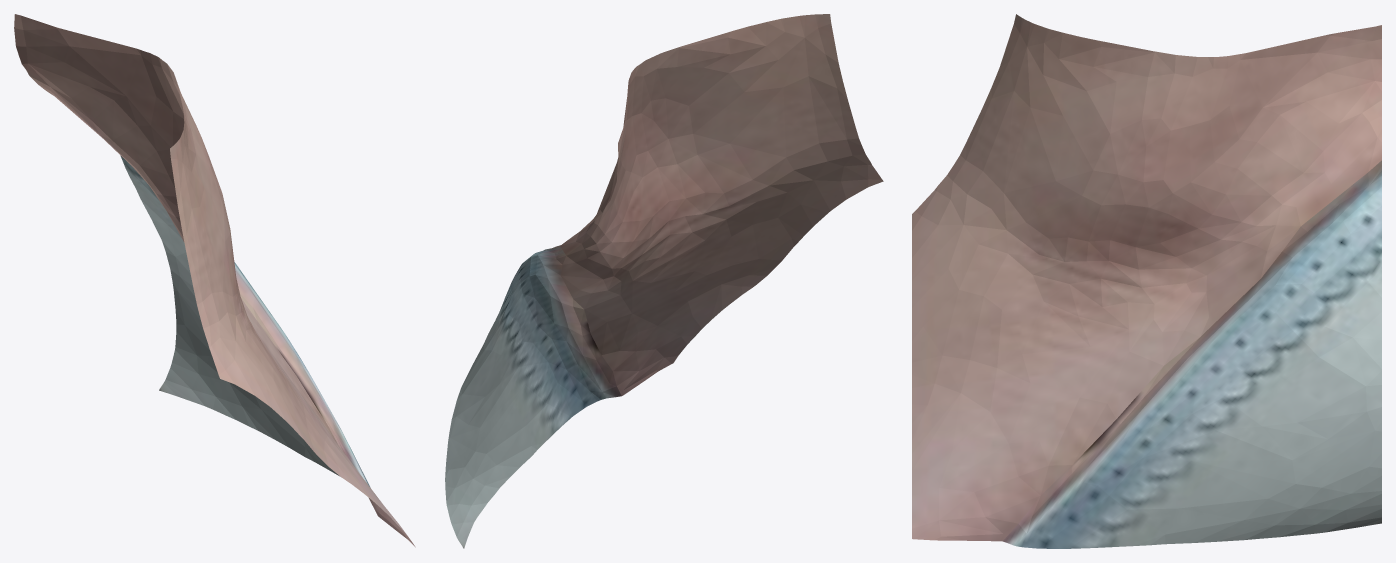
The picture shows the model from 3 angles, left to right: view 1: azimuth 30°, elevation 25°; view 2: azimuth 150°, elevation 25°; view 3: azimuth 270°, elevation 25°; orthographic projection. The views are drawn at different scales.
Visible parts, largest first — view 1: 091_W_Aya_100K_01; view 2: 091_W_Aya_100K_01; view 3: 091_W_Aya_100K_01.
Boxes of the visible parts, x1=… form: 091_W_Aya_100K_01: x1=14, y1=14, x2=415, y2=547; 091_W_Aya_100K_01: x1=445, y1=14, x2=883, y2=548; 091_W_Aya_100K_01: x1=912, y1=14, x2=1381, y2=548.
Size of the model in its own units: 47.17 by 85.74 by 85.74.
Materials: 1 (1 with a texture image).
